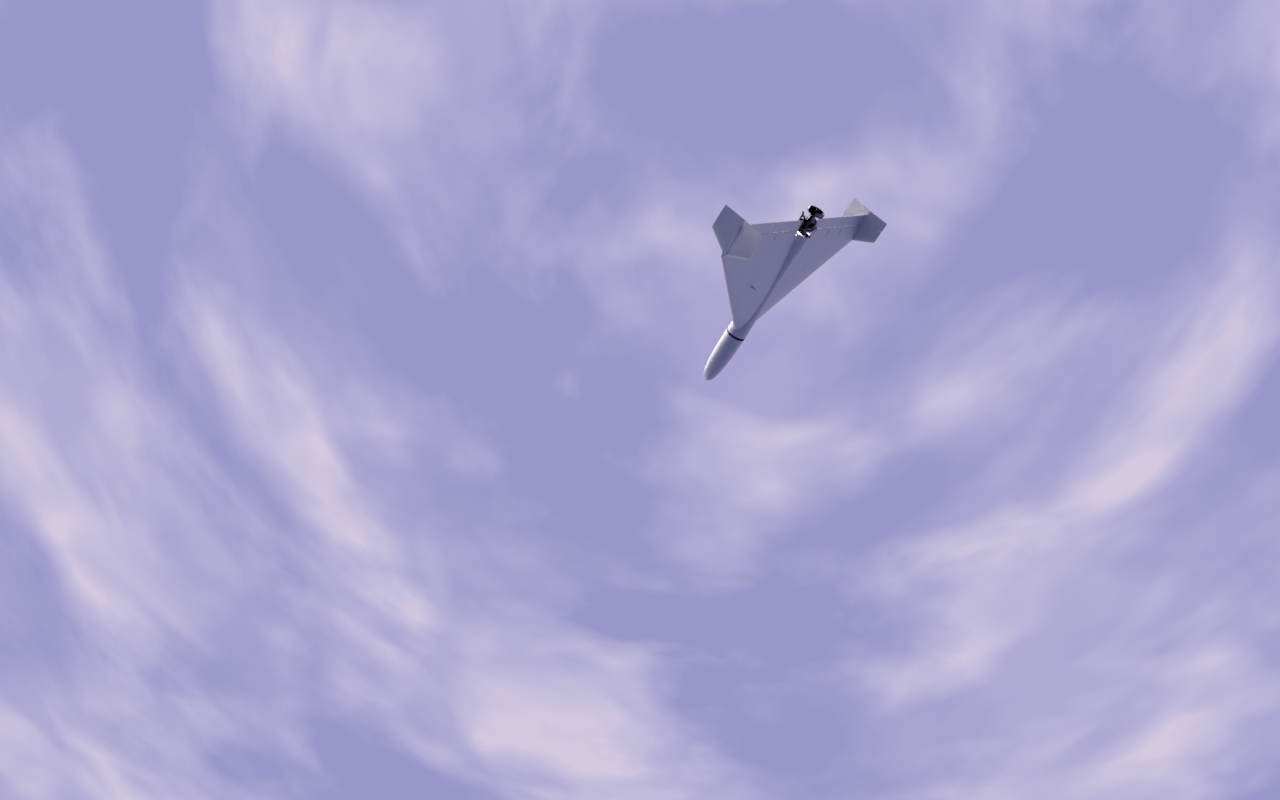shahed: (703, 198, 889, 383)
